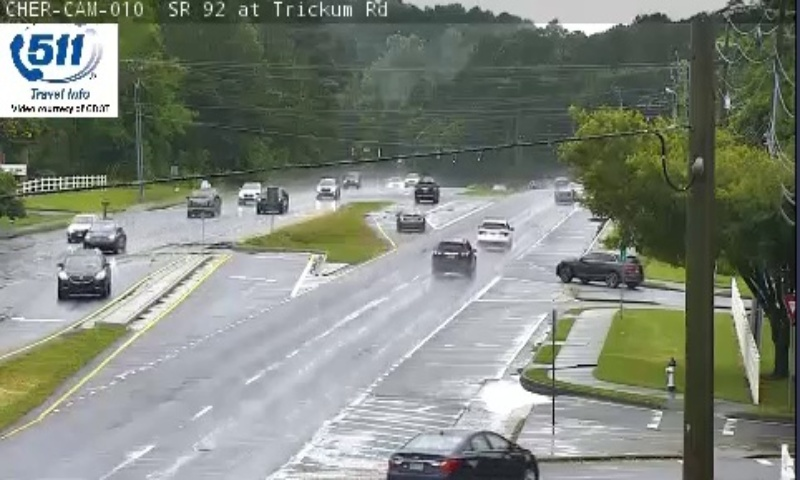car: (431, 238, 476, 274), (476, 218, 512, 247), (395, 209, 424, 230)
